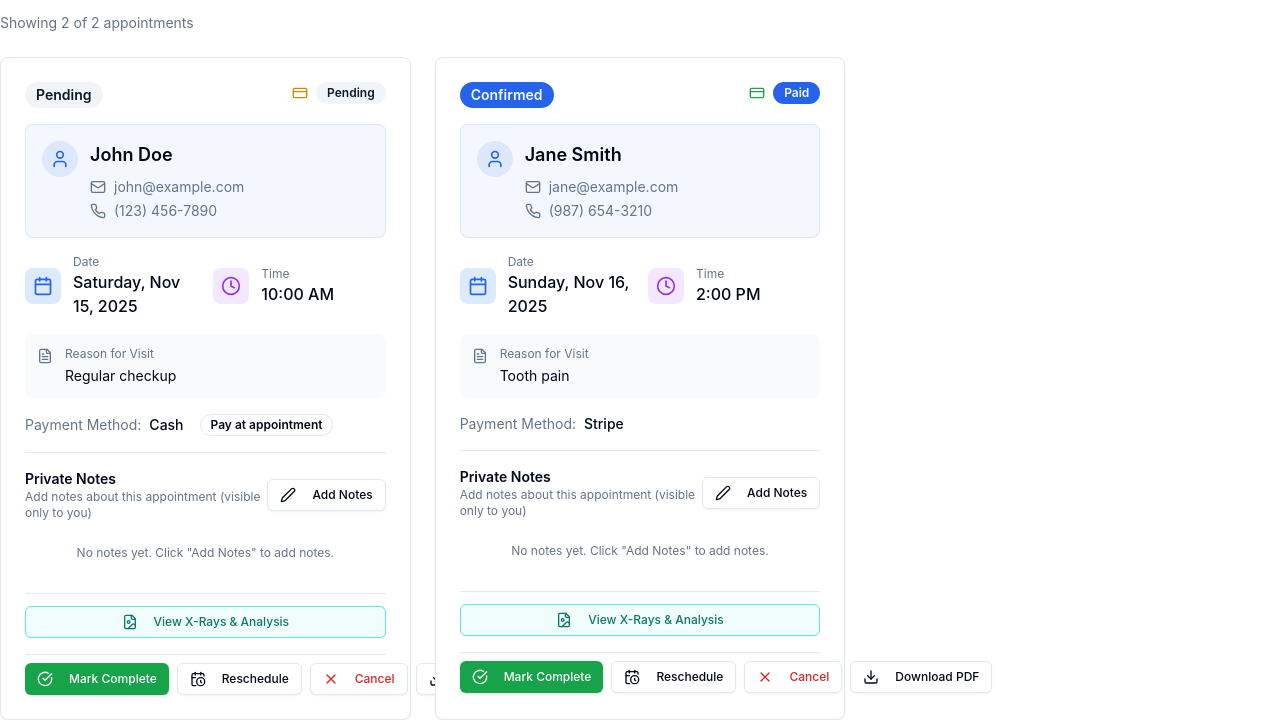
Scenario: AppointmentsTab › handles reschedule action
This screenshot has width=1280, height=720.
(page scrolled)
Find and click reschedule button
Step 1. Click the button "Reschedule" below "cash" → (239, 679), box [177,663,302,695]
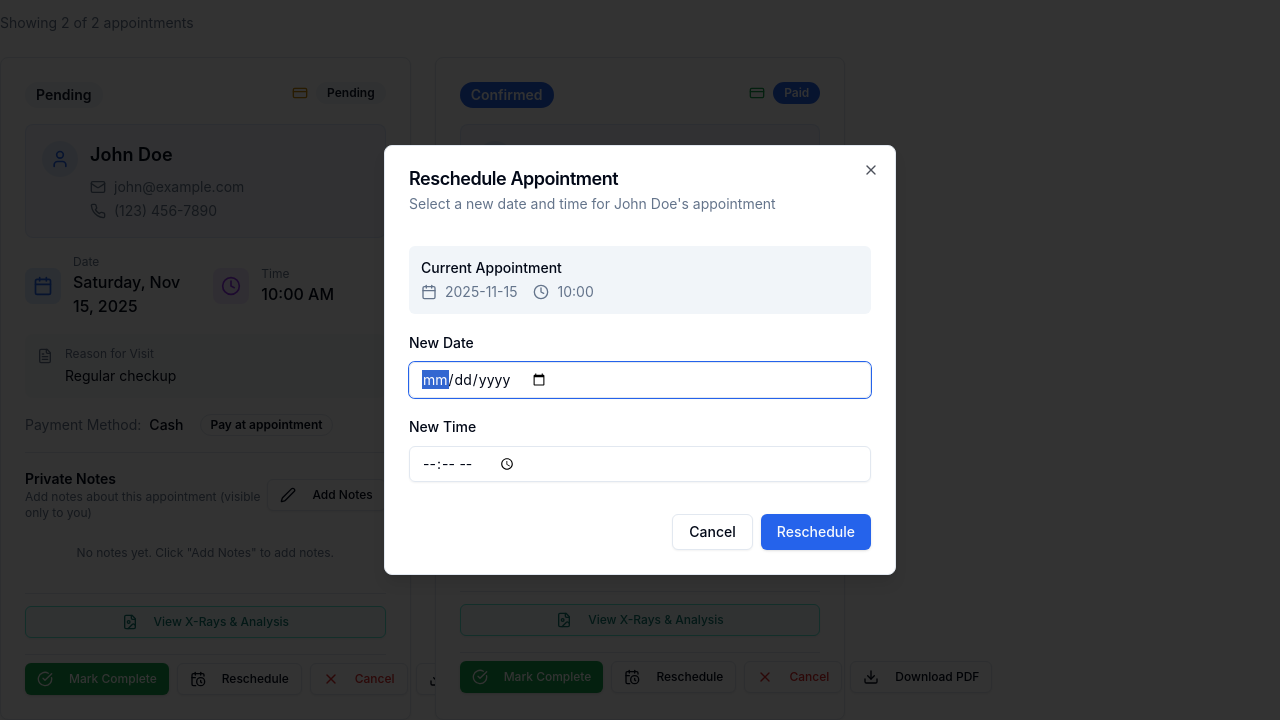
Now the heading "Reschedule Appointment" is shown, box [409,168,618,189]
